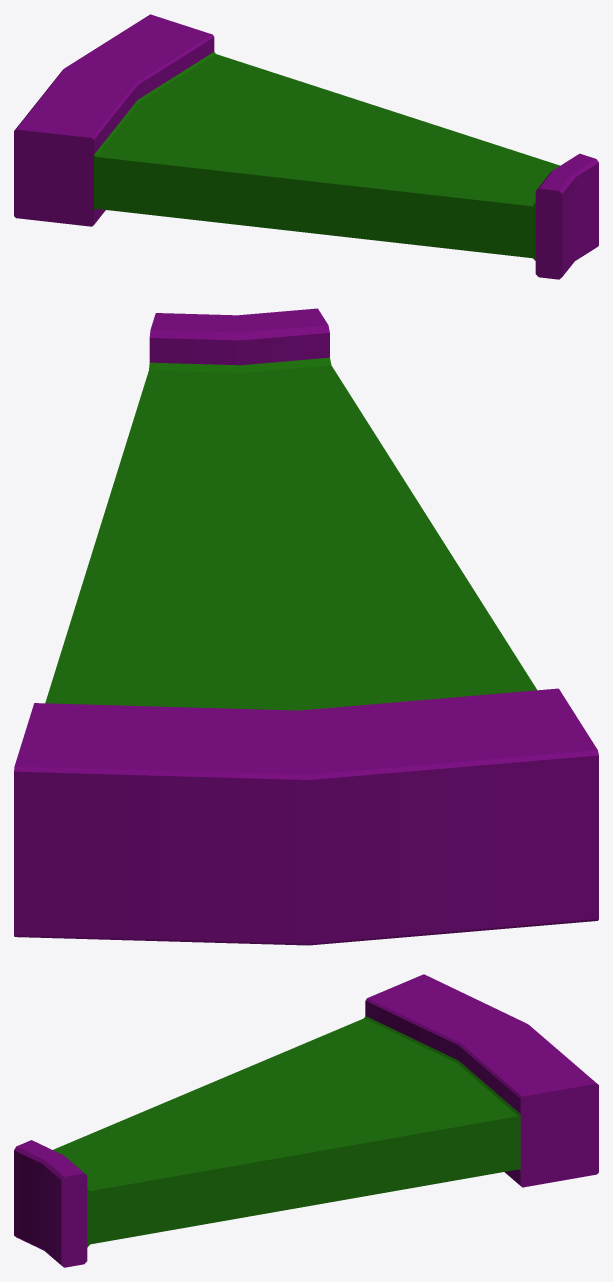
The model's file is SM_stage_e.fbx.
The picture shows the model from 3 angles, top to bottom: view 1: azimuth 30°, elevation 25°; view 2: azimuth 150°, elevation 25°; view 3: azimuth 270°, elevation 25°; orthographic projection. The views are drawn at different scales.
Parts seen in each view (by area): view 1: SM_stage_e; view 2: SM_stage_e; view 3: SM_stage_e.
Boxes of the visible parts, left/top/right/bottom form: SM_stage_e: left=14, top=14, right=598, bottom=279; SM_stage_e: left=14, top=308, right=598, bottom=945; SM_stage_e: left=14, top=974, right=598, bottom=1267.
Size of the model in its own units: 4.7 by 0.9768 by 5.7.
